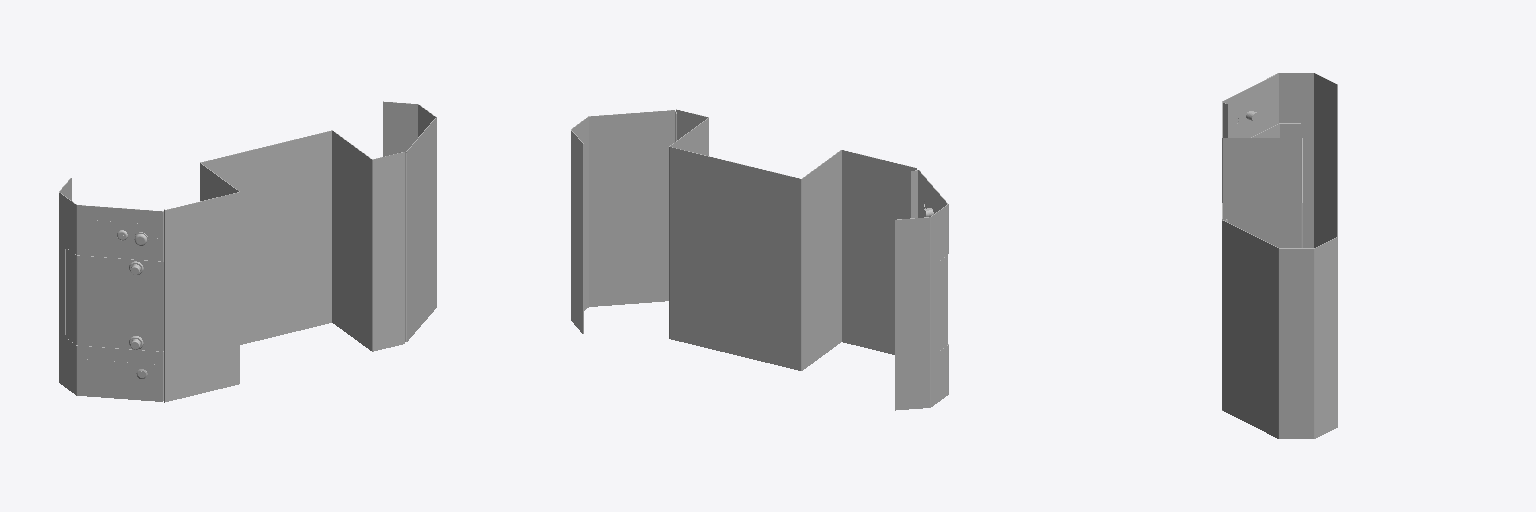
Rendered from top_chassis.obj.
The picture shows the model from 3 angles: view 1: azimuth 30°, elevation 25°; view 2: azimuth 150°, elevation 25°; view 3: azimuth 270°, elevation 25°; orthographic projection.
Parts seen in each view (by area): view 1: obj1; view 2: obj1; view 3: obj1.
Boxes of the visible parts, x1=… form: obj1: x1=59, y1=101, x2=436, y2=402; obj1: x1=571, y1=109, x2=948, y2=410; obj1: x1=1222, y1=73, x2=1337, y2=438.
Bounding box in the file's own units: 0.812 × 0.4137 × 0.2264.